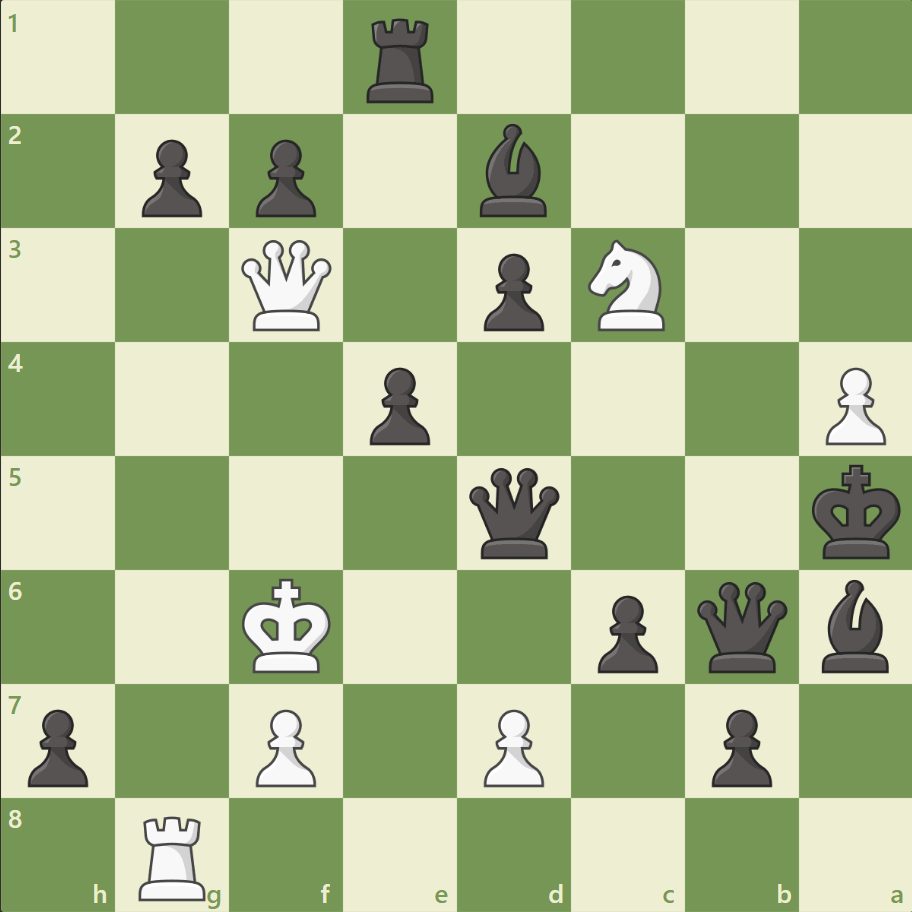K: (238, 571, 338, 679)
N: (579, 234, 676, 337)
P: (474, 700, 549, 791), (247, 700, 322, 791), (815, 359, 889, 450)
Q: (237, 236, 336, 335)
R: (133, 806, 215, 904)
b: (812, 574, 896, 676), (471, 120, 555, 222)
k: (806, 458, 906, 566)
p: (701, 700, 776, 791), (20, 700, 95, 791), (474, 246, 549, 337), (247, 132, 322, 223), (133, 132, 208, 223), (588, 586, 662, 677), (361, 359, 435, 450)
q: (691, 576, 790, 676), (464, 463, 563, 562)
r: (360, 12, 442, 109)
